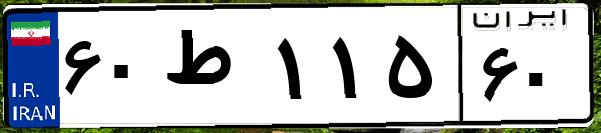0: (525, 38, 570, 115), (110, 28, 158, 98)
1: (270, 28, 330, 110), (330, 28, 385, 110)
5: (385, 28, 445, 110)
6: (57, 26, 110, 100), (475, 38, 525, 113)
ط: (158, 20, 270, 120)
